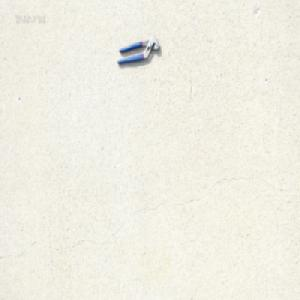Pliers: (116, 36, 160, 66)
